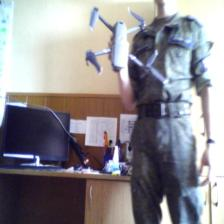drone: (84, 0, 162, 83)
